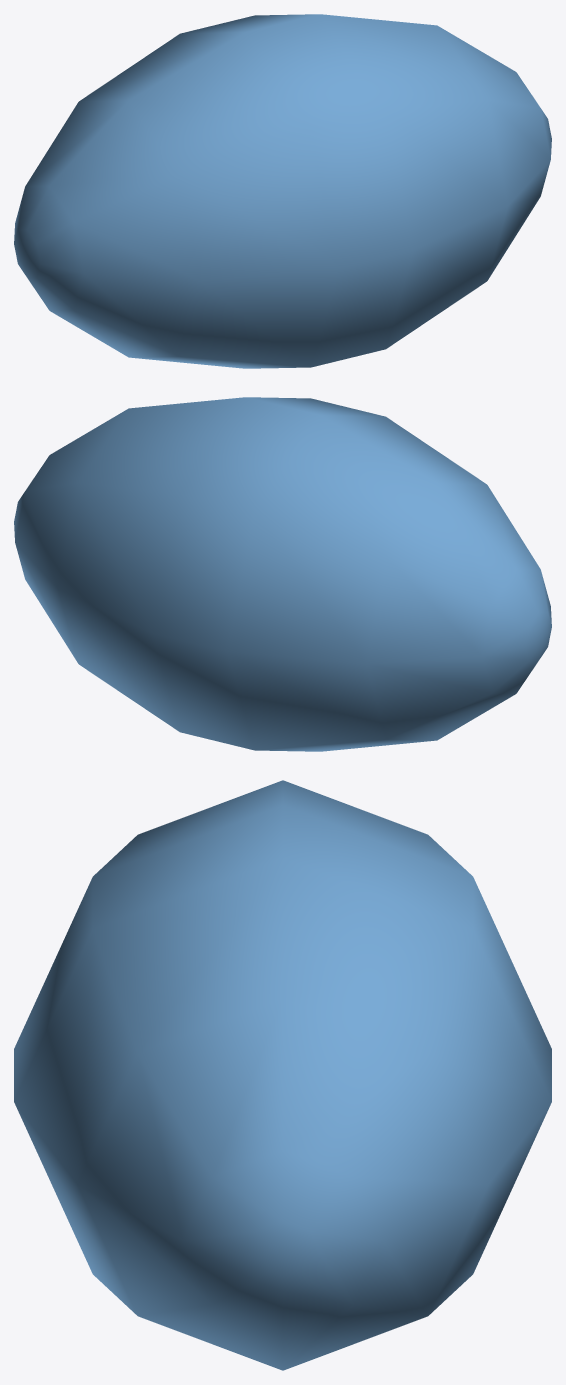
File: Ball_01.fbx
3 renders of one model, top to bottom at view 1: azimuth 30°, elevation 25°; view 2: azimuth 150°, elevation 25°; view 3: azimuth 270°, elevation 25°, orthographic. The views are drawn at different scales.
Visible parts, largest first — view 1: Circle.001; view 2: Circle.001; view 3: Circle.001.
Part boxes in pixels (x1,y1,x2,y2): Circle.001: (14,14,551,368); Circle.001: (14,397,551,751); Circle.001: (14,780,551,1370).
Bounding box in the file's own units: 30.31 × 18.77 × 18.77.
